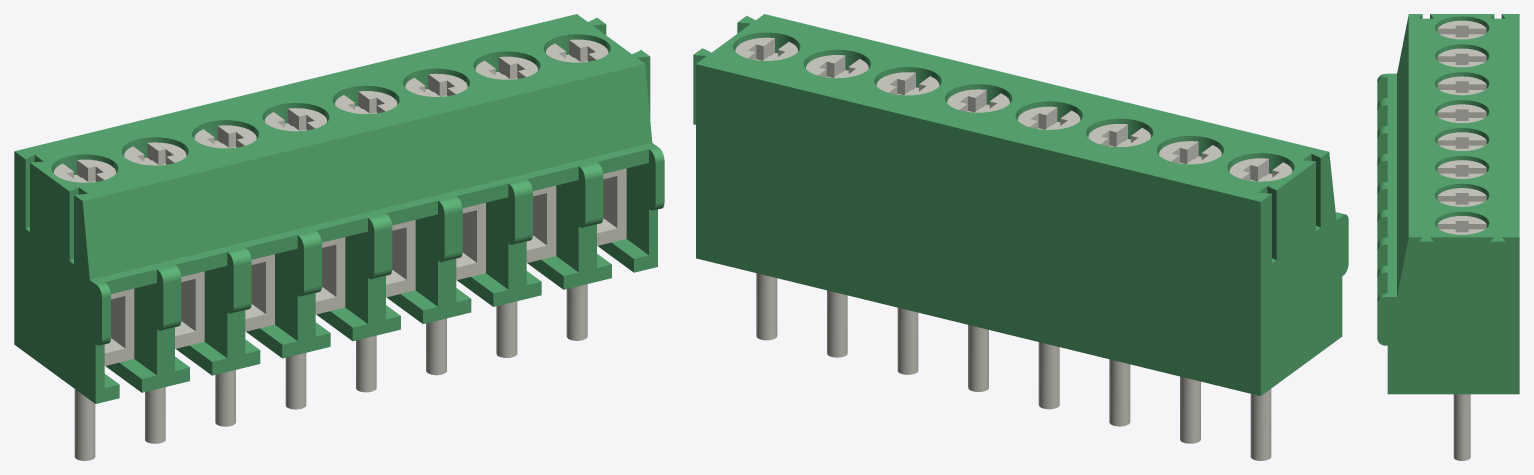
Rendered from kc-terminalblock_phoenix_pt-1_5-8-3.5-h_1x08_p3.50mm_horizontal.glb.
3 renders of one model, left to right at view 1: azimuth 30°, elevation 25°; view 2: azimuth 150°, elevation 25°; view 3: azimuth 270°, elevation 25°, orthographic. The views are drawn at different scales.
Parts seen in each view (by area): view 1: 0.08333333333333333_0.4166666666666667_0.16666666666666666_0, 0.6666666666666666_0.6666666666666666_0.5833333333333334_0.8; view 2: 0.08333333333333333_0.4166666666666667_0.16666666666666666_0, 0.6666666666666666_0.6666666666666666_0.5833333333333334_0.8; view 3: 0.08333333333333333_0.4166666666666667_0.16666666666666666_0, 0.6666666666666666_0.6666666666666666_0.5833333333333334_0.8.
Part boxes in pixels (x1,y1,x2,y2): 0.08333333333333333_0.4166666666666667_0.16666666666666666_0: [14, 14, 664, 403]; 0.6666666666666666_0.6666666666666666_0.5833333333333334_0.8: [53, 39, 626, 460]; 0.08333333333333333_0.4166666666666667_0.16666666666666666_0: [693, 14, 1348, 395]; 0.6666666666666666_0.6666666666666666_0.5833333333333334_0.8: [735, 37, 1292, 460]; 0.08333333333333333_0.4166666666666667_0.16666666666666666_0: [1377, 14, 1519, 394]; 0.6666666666666666_0.6666666666666666_0.5833333333333334_0.8: [1437, 20, 1486, 460].
Bounding box in the file's own units: 2.86 × 1.37 × 0.7552.
